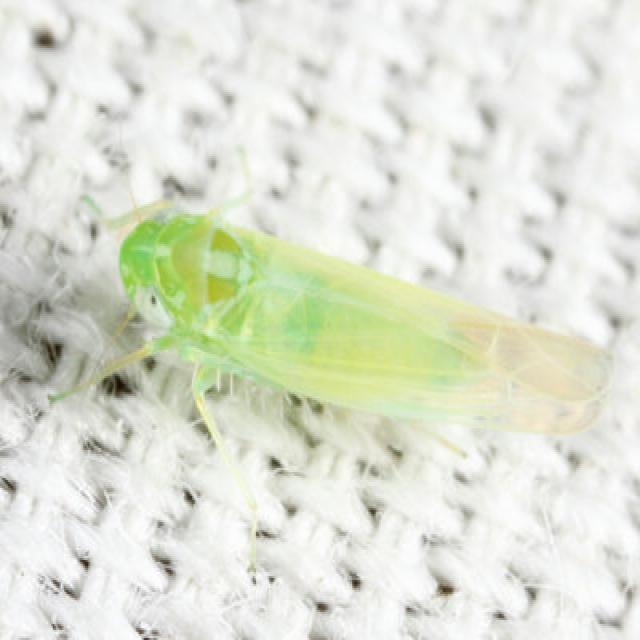Yechan: (84, 190, 626, 467)
